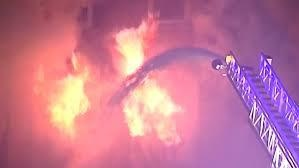fire: (109, 15, 185, 141), (39, 54, 92, 133)
